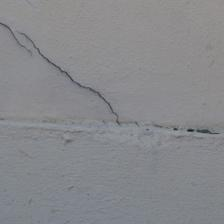Crack: (27, 33, 122, 126), (3, 25, 36, 59)
